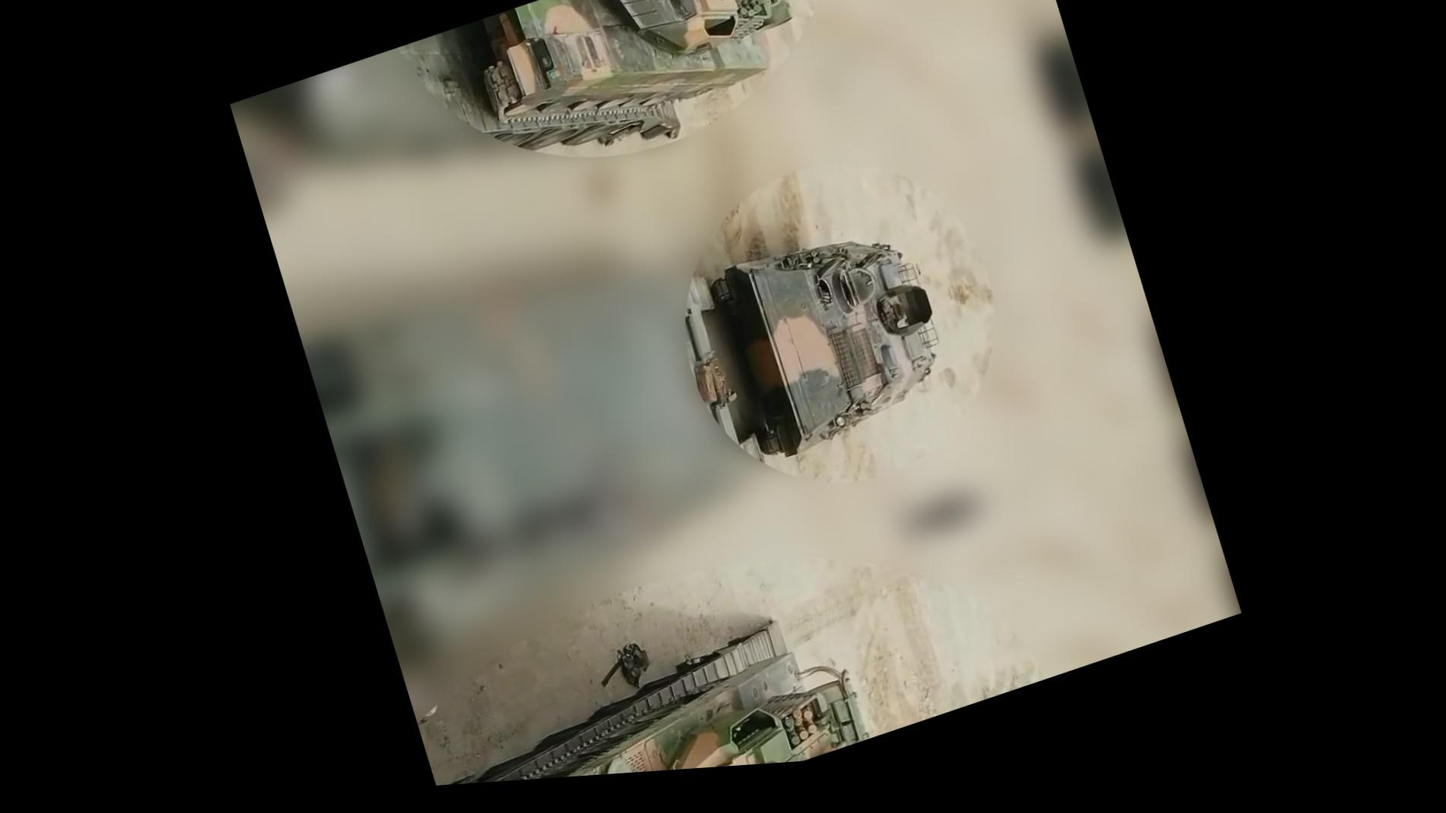armored_car: (659, 192, 977, 489)
tank: (413, 586, 870, 787), (432, 0, 813, 179)
